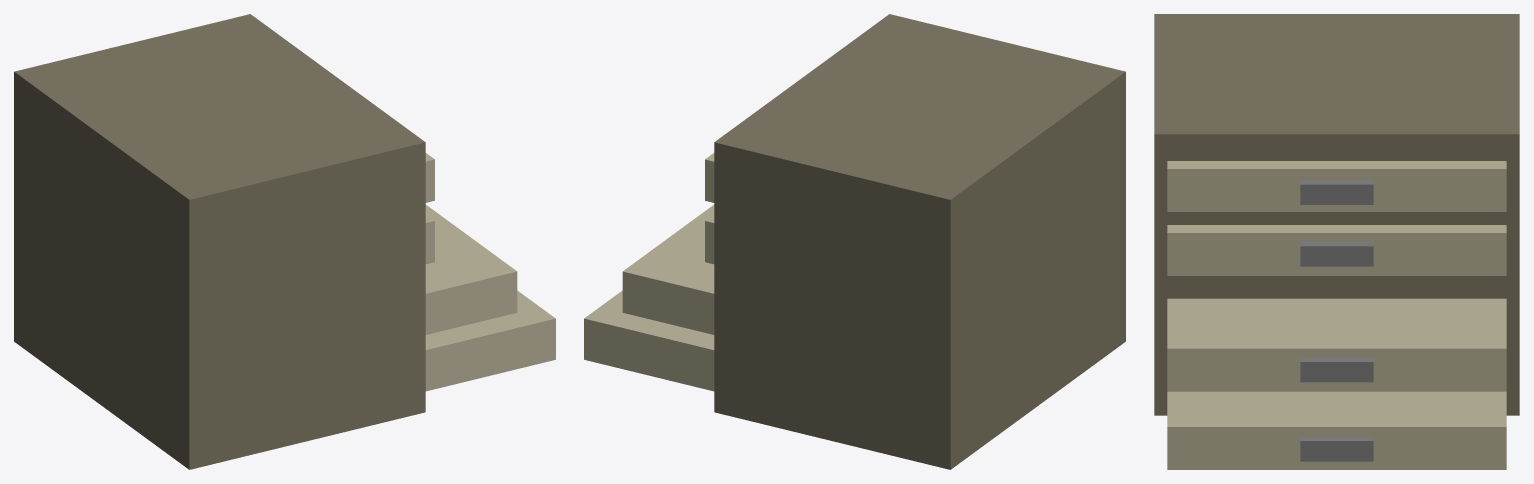
The model's file is nightstand.fbx.
3 renders of one model, left to right at view 1: azimuth 30°, elevation 25°; view 2: azimuth 150°, elevation 25°; view 3: azimuth 270°, elevation 25°, orthographic. The views are drawn at different scales.
Visible parts, largest first — view 1: PM3D_Plane3D219_003; view 2: PM3D_Plane3D219_003; view 3: PM3D_Plane3D219_003.
Boxes of the visible parts, x1,y1,x2,y2 form: PM3D_Plane3D219_003: (14, 14, 555, 469); PM3D_Plane3D219_003: (584, 14, 1125, 469); PM3D_Plane3D219_003: (1154, 14, 1519, 469).
Size of the model in its own units: 105 by 71.39 by 84.
